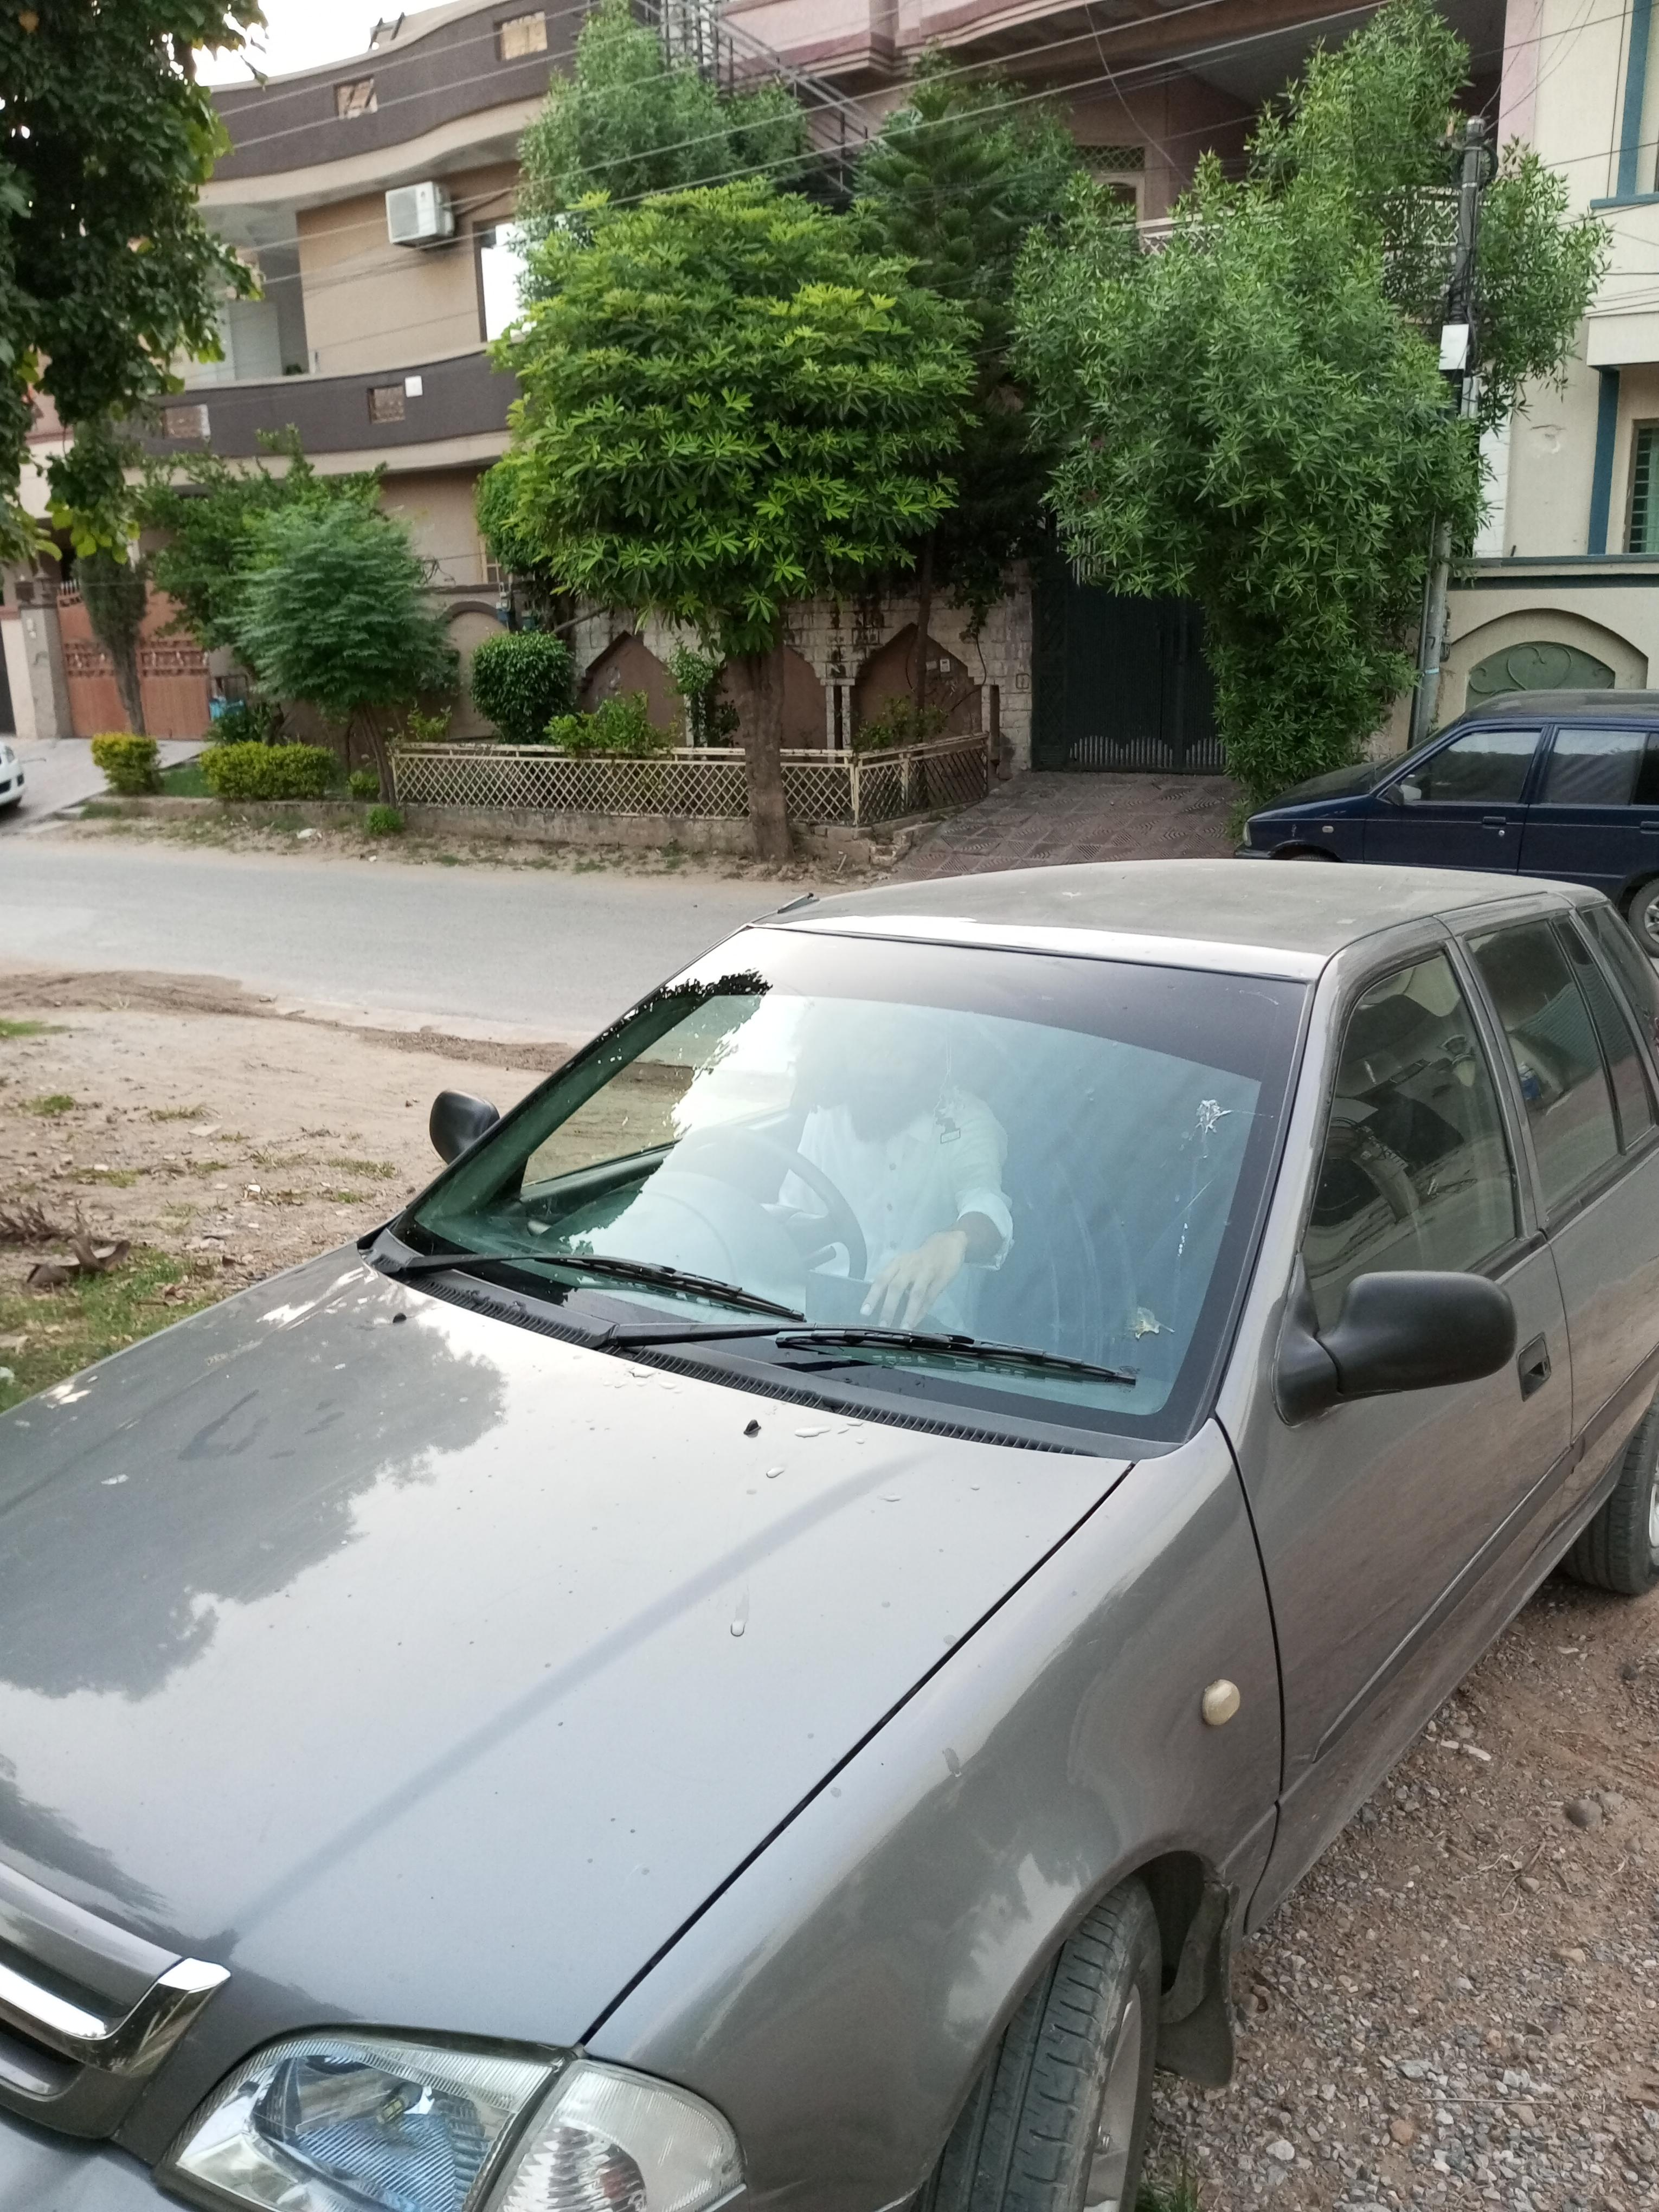windshield: (369, 911, 1319, 1458)
